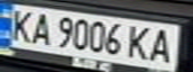0: (87, 18, 109, 54), (69, 16, 90, 52)
6: (103, 20, 127, 57)
9: (51, 14, 75, 50)
A: (145, 26, 181, 64), (27, 11, 54, 46)
K: (3, 7, 39, 43), (124, 24, 154, 61)
